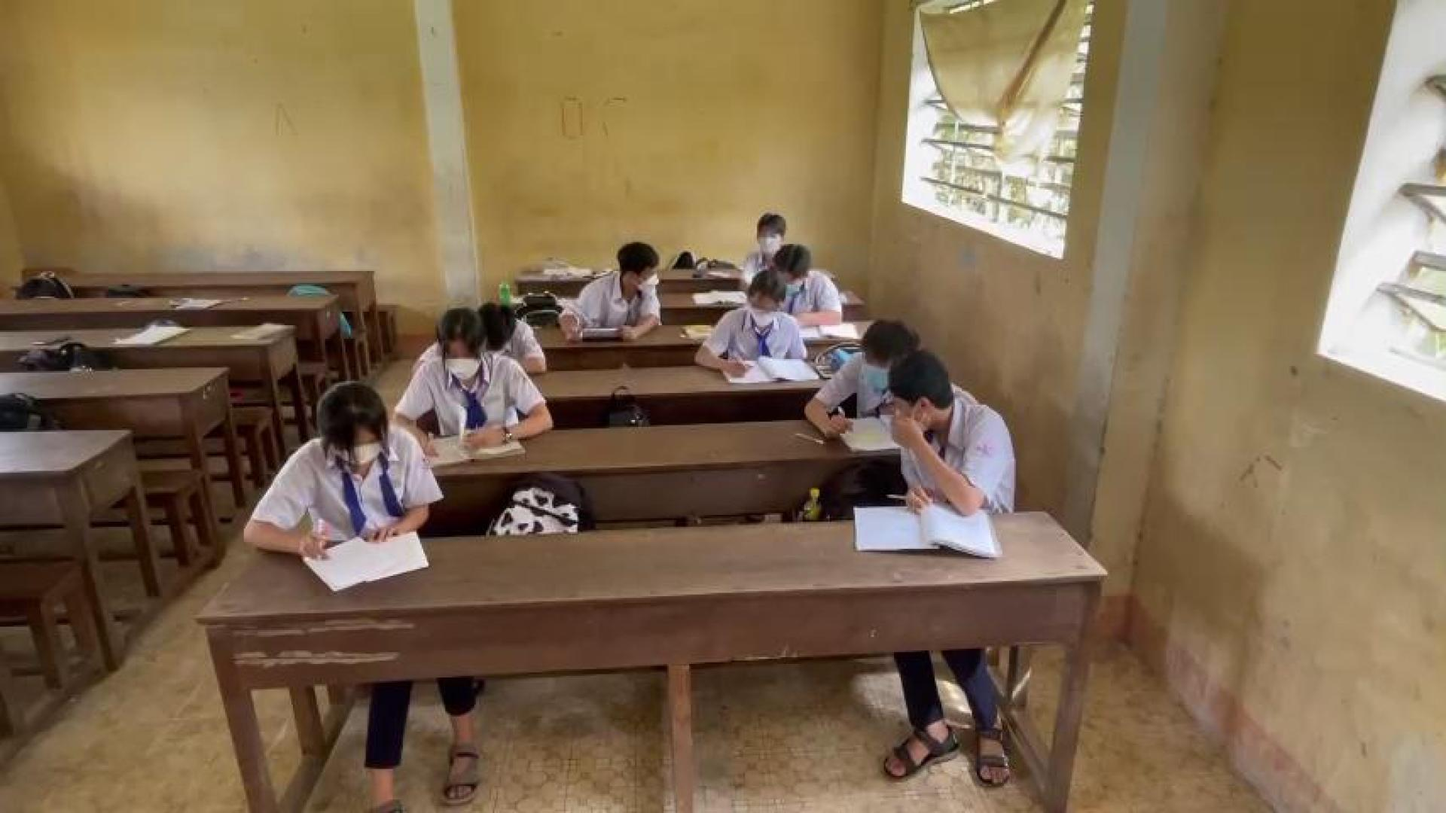Look Around: (869, 344, 967, 427), (606, 232, 672, 298)
Wave: (872, 406, 996, 523)
